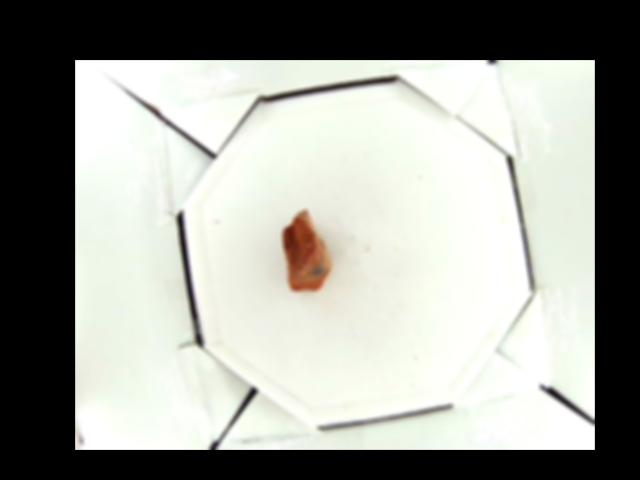Brisk: (282, 209, 331, 291)
